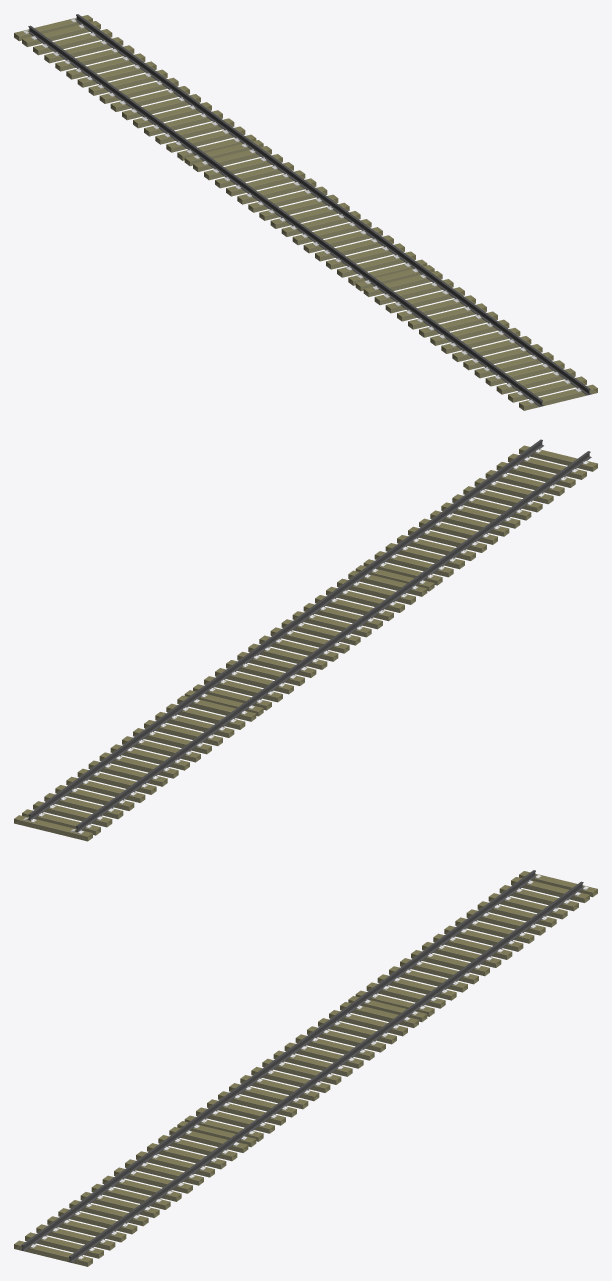
Rendered from sina.fbx.
3 views of the same model, one above another, from view 1: azimuth 30°, elevation 25°; view 2: azimuth 150°, elevation 25°; view 3: azimuth 330°, elevation 25° (orthographic).
Parts seen in each view (by area): view 1: polySurface488, polySurface531; view 2: polySurface488, polySurface531; view 3: polySurface488, polySurface531.
Part boxes in pixels (x1=…): polySurface488: x1=14, y1=15, x2=597, y2=410; polySurface531: x1=28, y1=14, x2=591, y2=406; polySurface488: x1=14, y1=445, x2=597, y2=841; polySurface531: x1=27, y1=439, x2=591, y2=831; polySurface488: x1=14, y1=871, x2=597, y2=1266; polySurface531: x1=20, y1=870, x2=583, y2=1262.
Bounding box in the file's own units: 1.98 × 0.2617 × 23.89.
